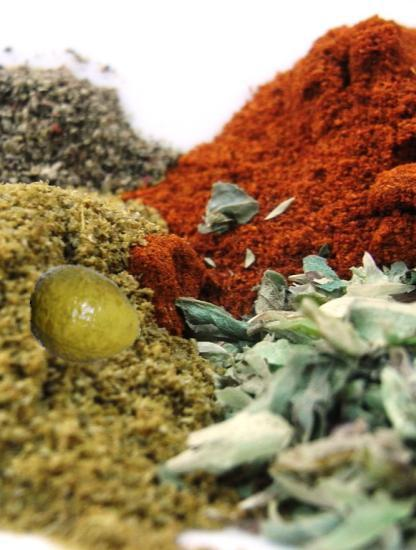Guava: (28, 258, 143, 373)
